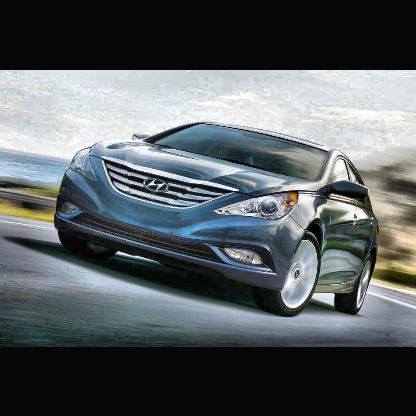Hyundai Sonata Sedan 2012: (42, 107, 390, 329)
